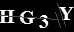3: (38, 14, 48, 29)
G: (19, 10, 34, 25)
H: (1, 9, 14, 24)
Y: (58, 6, 74, 21)
